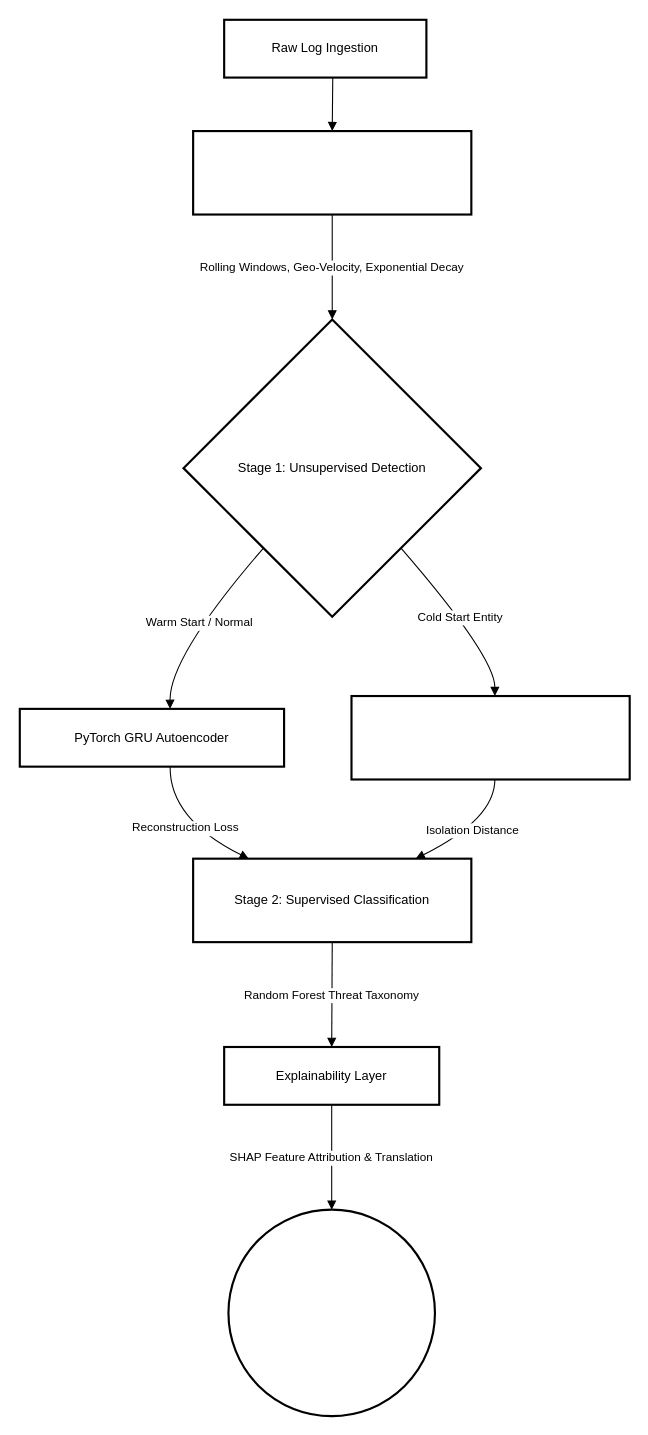
Some shapes in this 648 by 1435 pixel diagram are drawn without their labels. Each missing label, with the box of its shape:
Isolation Forest / Population Prior Fallback: (350, 694, 630, 780)
Stateful Feature Engineering: (192, 129, 472, 215)
Streamlit SOC Dashboard: (227, 1208, 435, 1417)
